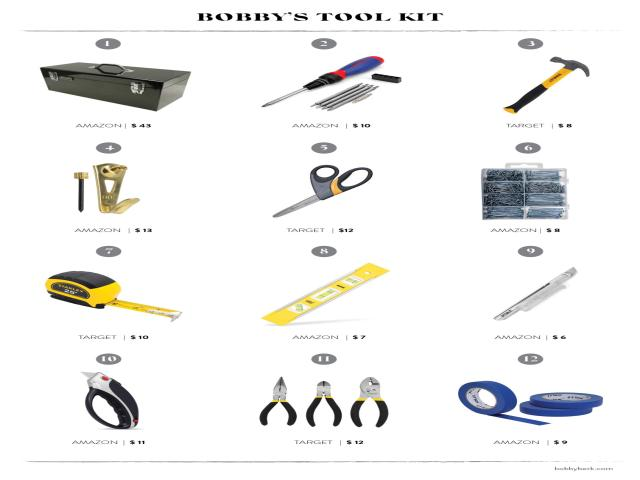Cutting pliers: (350, 377, 388, 428), (305, 382, 341, 427)
Hammer: (505, 57, 590, 113)
Needle-nose pliers: (259, 377, 297, 425)
Screwdriver: (263, 56, 384, 107)
Tape measure: (45, 271, 182, 321)
Utility knife: (494, 267, 579, 321)
